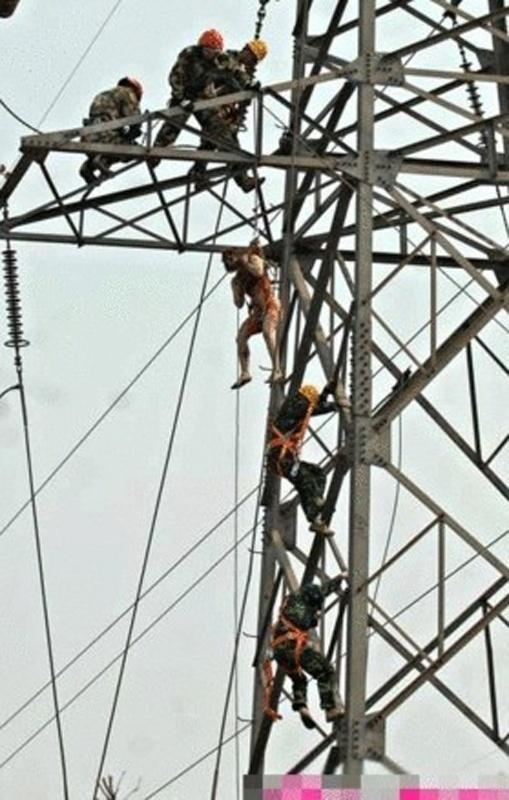power_tower: (215, 3, 504, 785)
